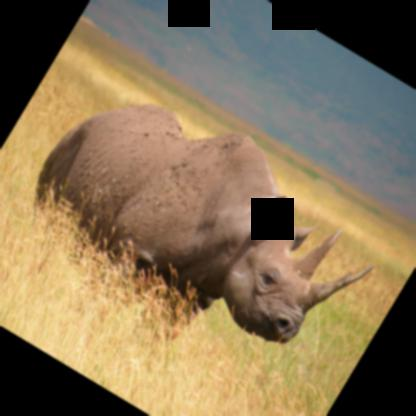Diceros bicornis: (0, 48, 401, 410)
